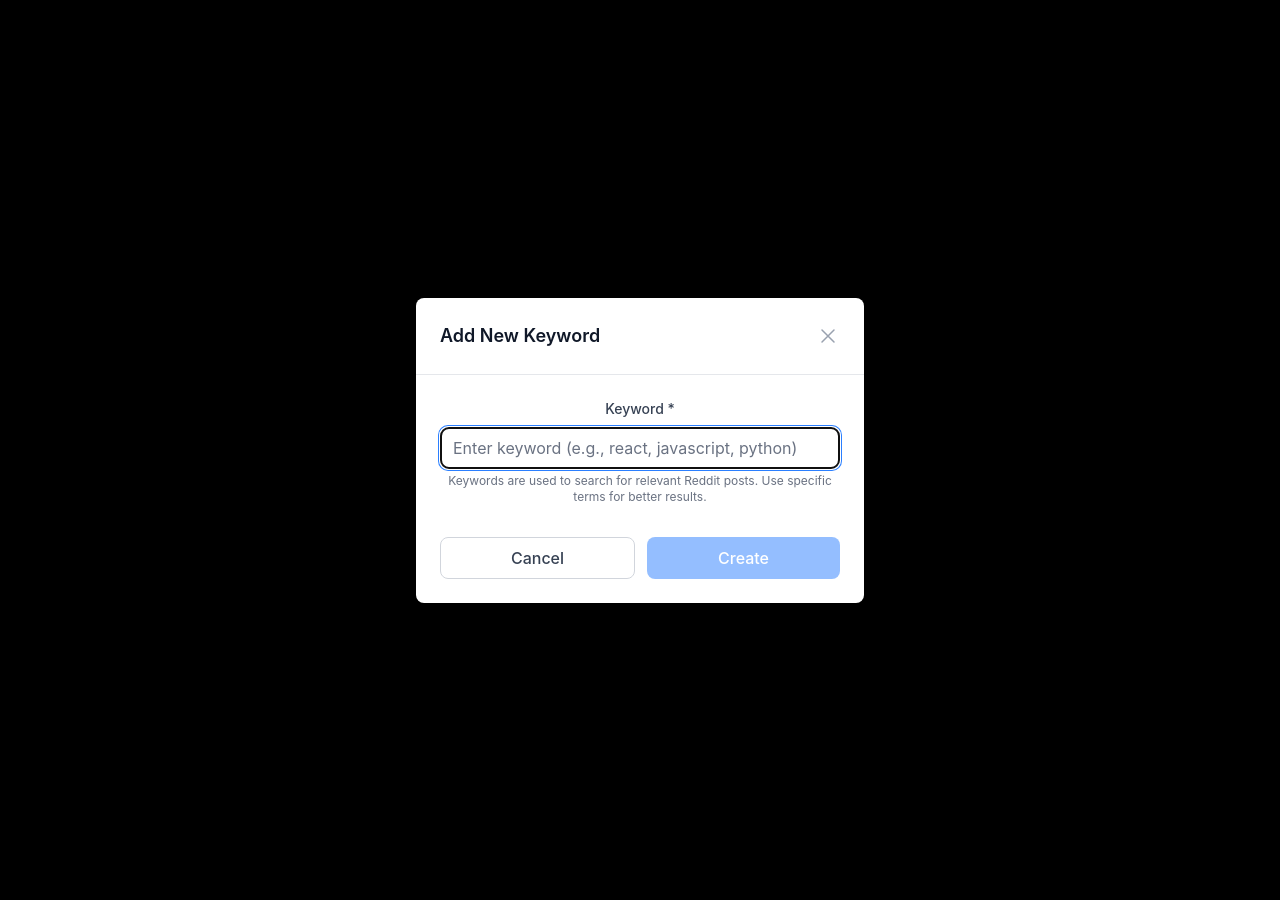
Test case: KeywordForm › shows validation error for invalid characters
Type "test@#$" into the field labelled "Keyword *" at (640,448), box [440, 426, 840, 468]
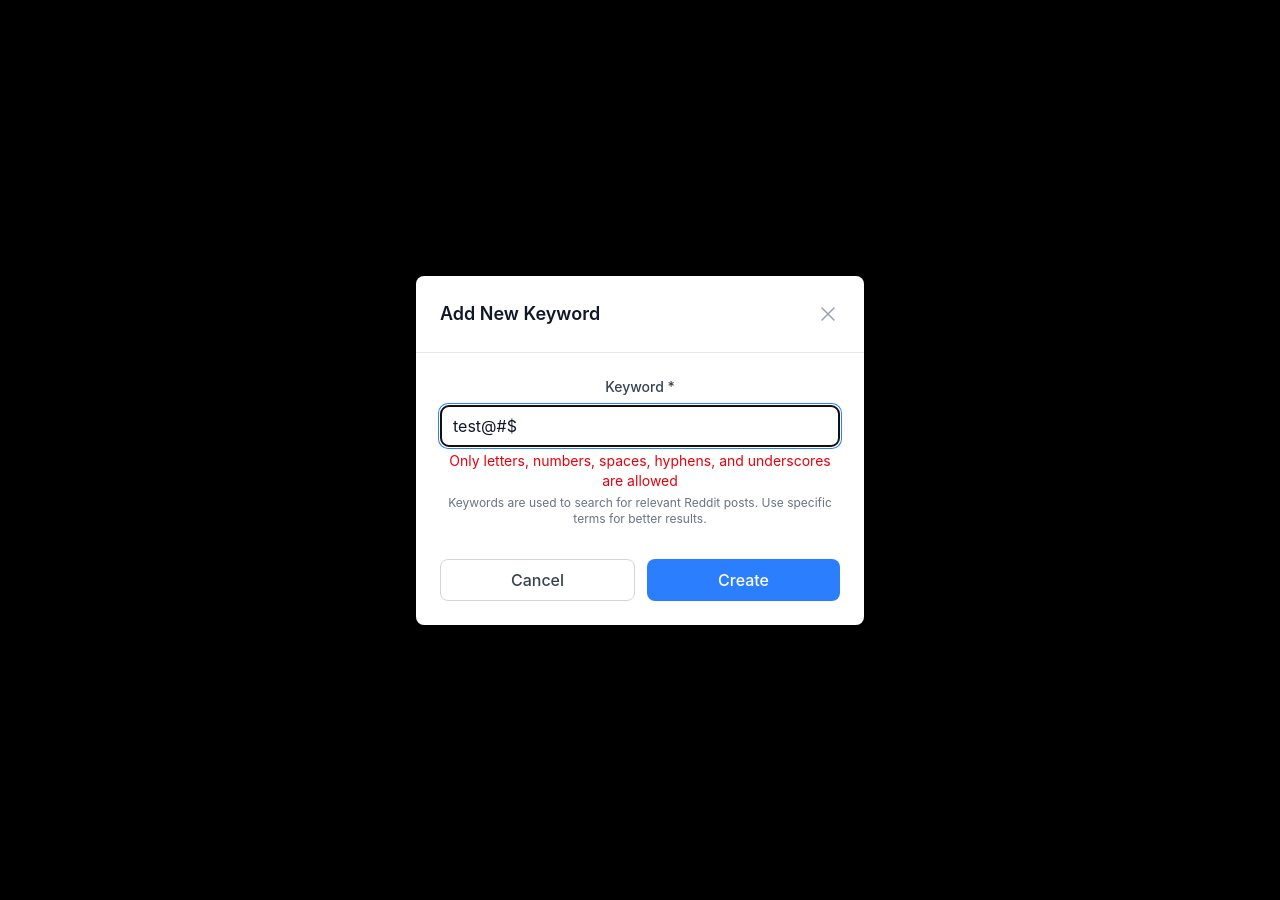
Check: the text "Only letters, numbers, spaces, hyphens, and underscores are allowed" is shown, box [440, 450, 840, 490]
